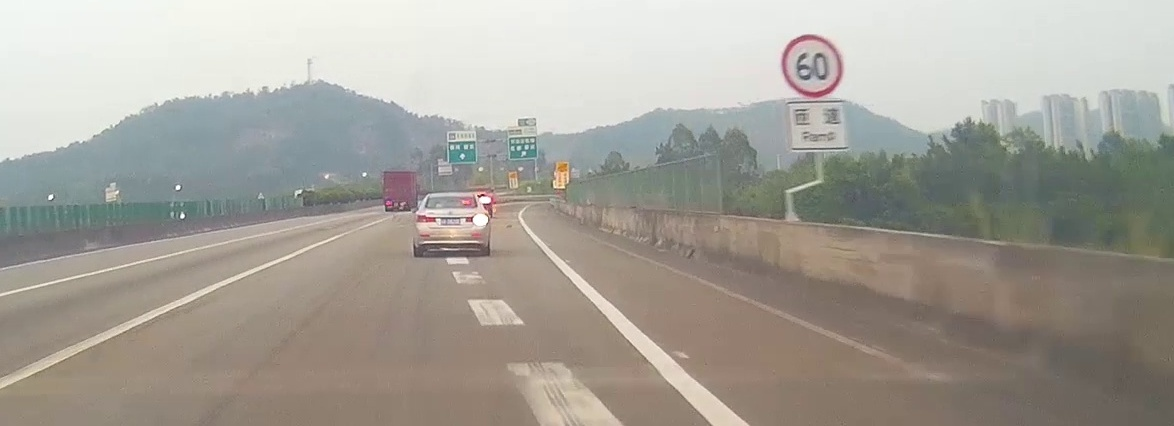L_light: (416, 214, 436, 223)
R_light: (465, 213, 488, 225)
T_light: (444, 204, 458, 208)
day-right: (413, 193, 489, 256)
